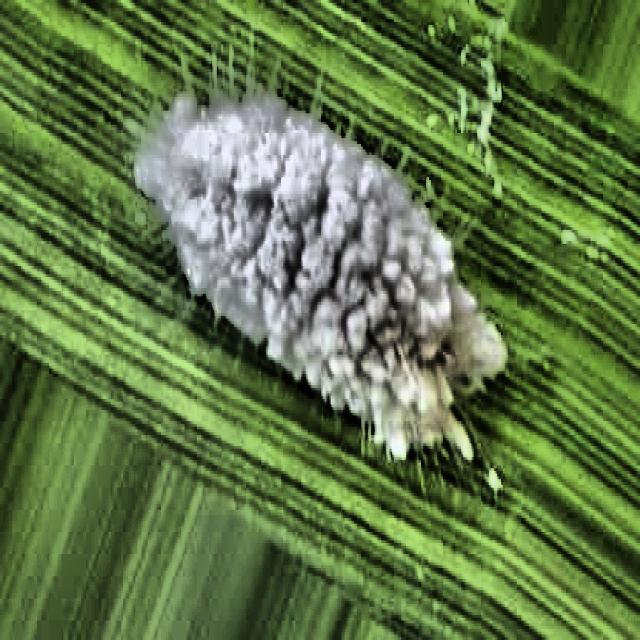Mealy-bug: (83, 30, 520, 529)
